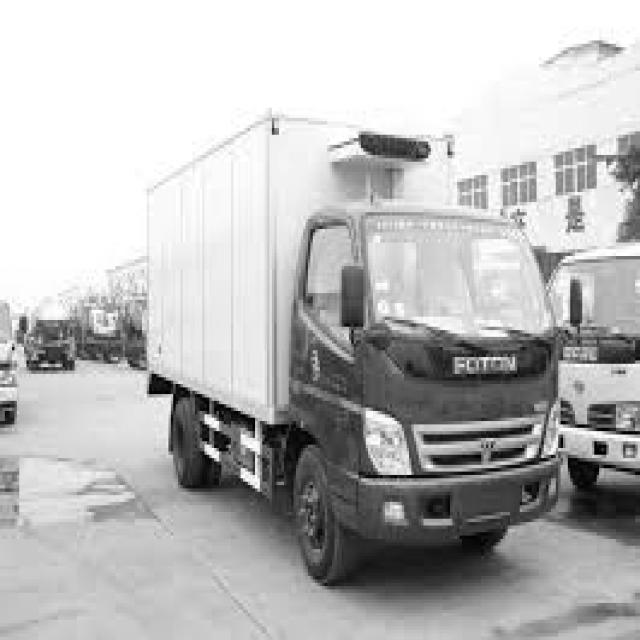truck: (267, 171, 593, 602), (548, 233, 640, 503)
